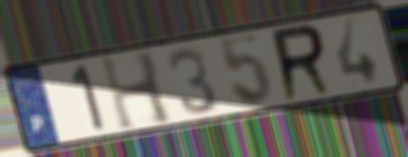1: (69, 63, 108, 133)
3: (166, 45, 220, 118)
4: (338, 16, 384, 88)
5: (213, 30, 278, 108)
H: (97, 48, 177, 134)
R: (268, 21, 337, 105)
